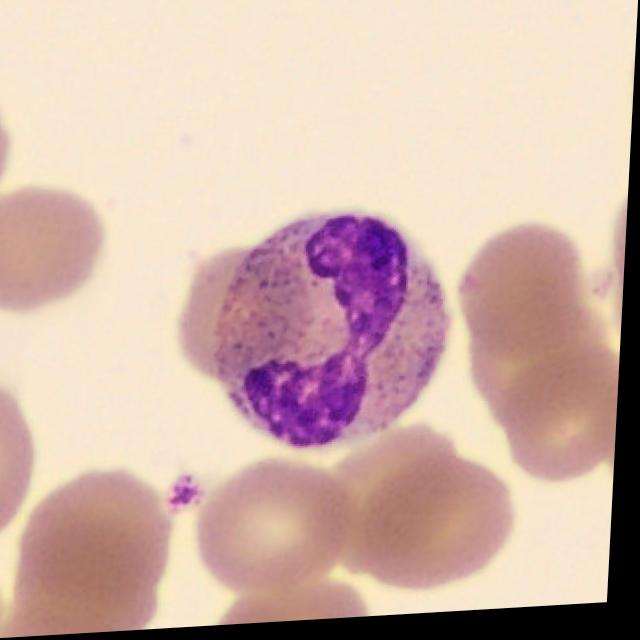Neutrofilo segmentado: (212, 215, 450, 456)
